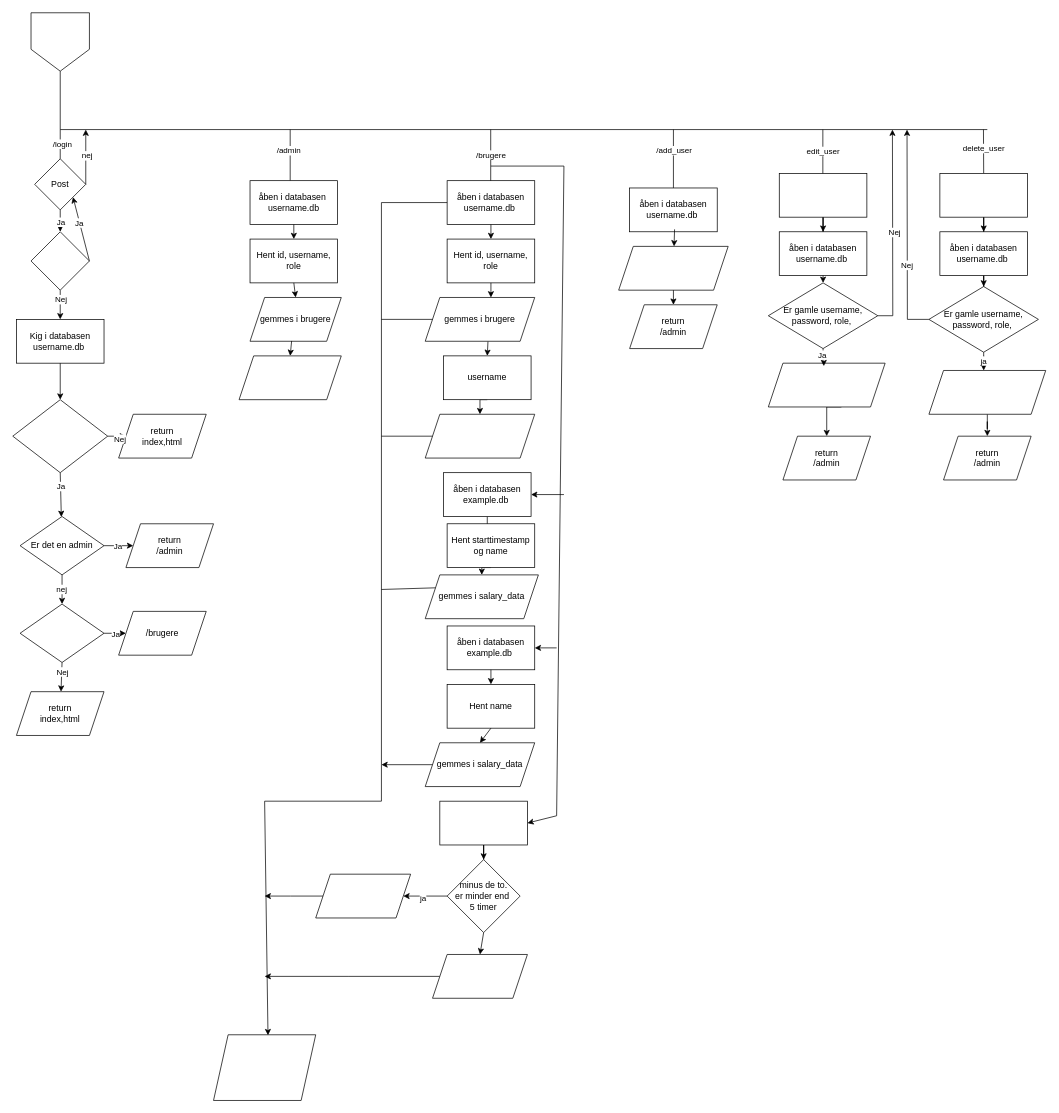
Some shapes in this 1059 by 1113 pixel diagram are drawn without their labels. The box of each missing label's shape, as (x1, y1, x2, y2) in pixels:
bruger.thml brugere salary_data person_data status: (213, 1034, 316, 1100)
Er bruger og koden der: (12, 399, 108, 473)
Er det en bruger: (19, 603, 104, 662)
Er felterne tomme?: (30, 231, 89, 290)
fjerne: (928, 370, 1046, 414)
Får id, username, password, role: (939, 173, 1027, 217)
Får ny username, password, role: (779, 173, 867, 217)
gemmes i username: (424, 414, 535, 458)
Hent lasttimestamp næste side og sidste lasttimestamp: (439, 800, 527, 845)
indsætter ny username, password, role,: (768, 362, 885, 407)
indsætter username, password, role: (618, 246, 728, 290)
login-system /value: (30, 12, 89, 71)
sataus "har fri": (432, 954, 527, 998)
sataus "på arbejdet": (315, 873, 411, 918)
Sender admin.html og brugere: (238, 355, 341, 400)
